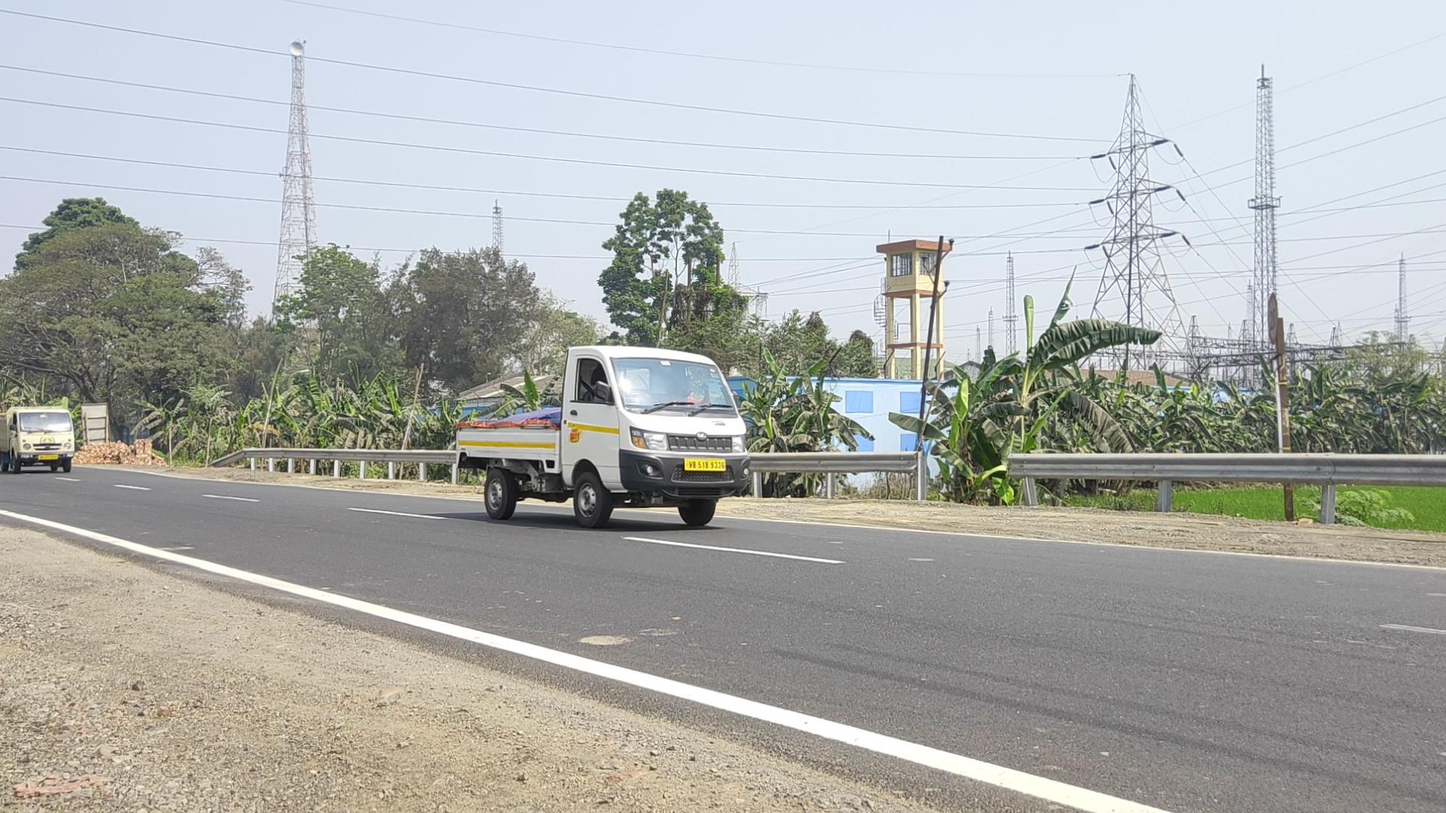van: (455, 343, 749, 528), (1, 406, 75, 475)
